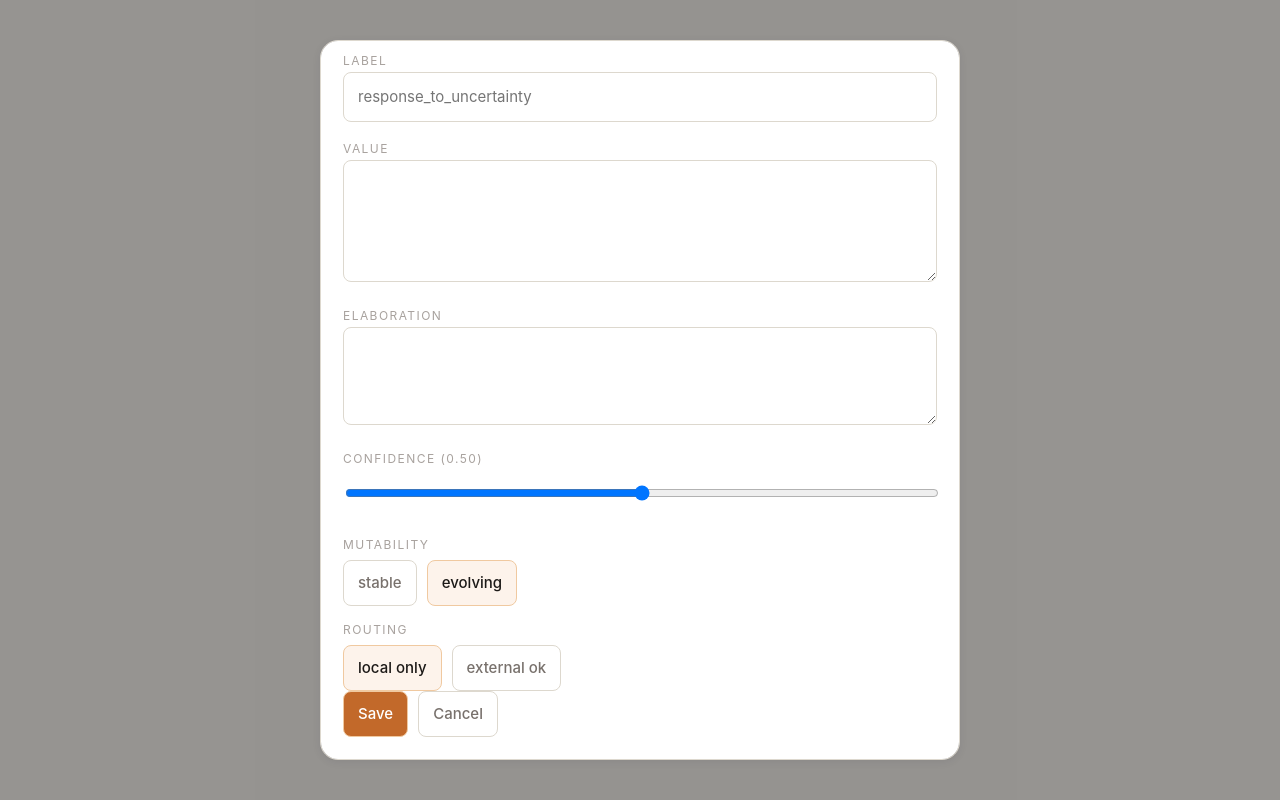
Scenario: AttributeEditor › validates required fields while creating
(page scrolled)
Click the button "Save" at point(376, 714), box [343,691,408,737]
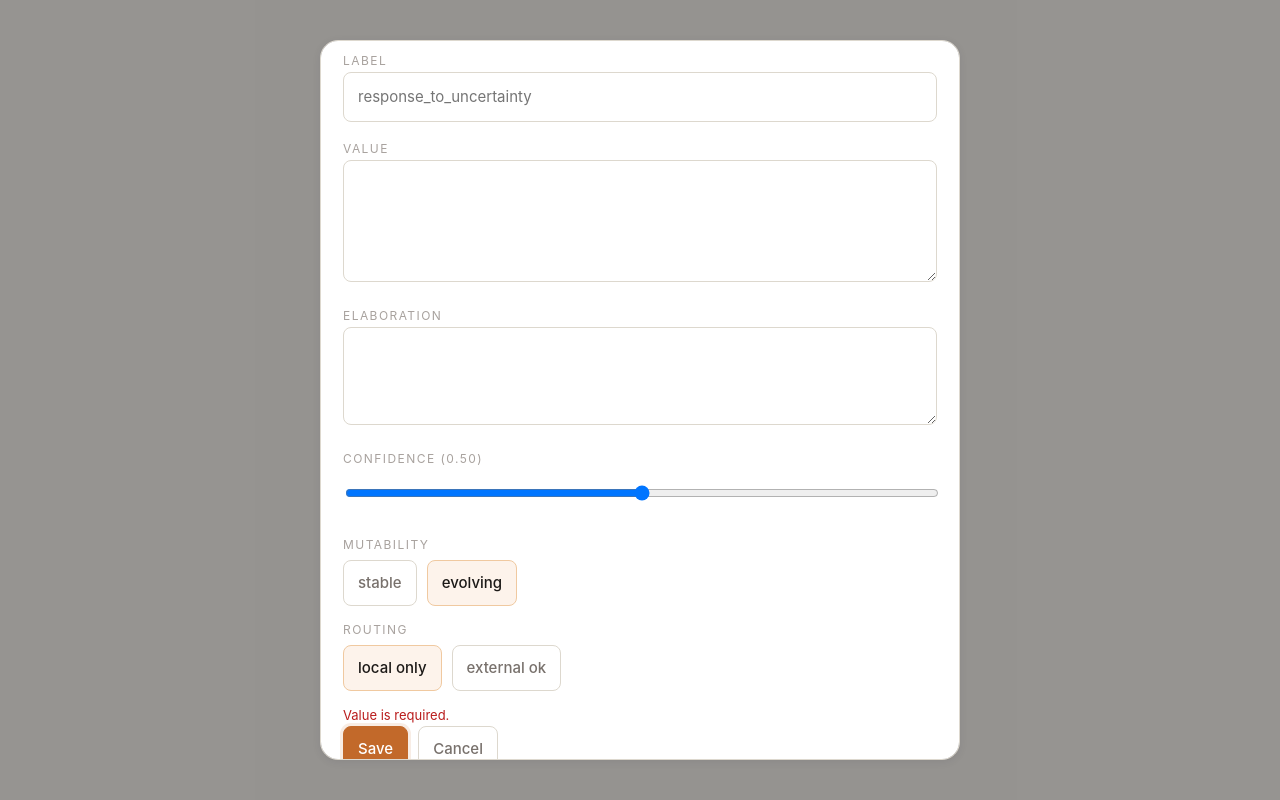
Check: the message reads "Value is required.", box [343,707,449,723]
Type "Something true" into the text box labelled "Value" at point(640, 221), box [343,160,937,282]
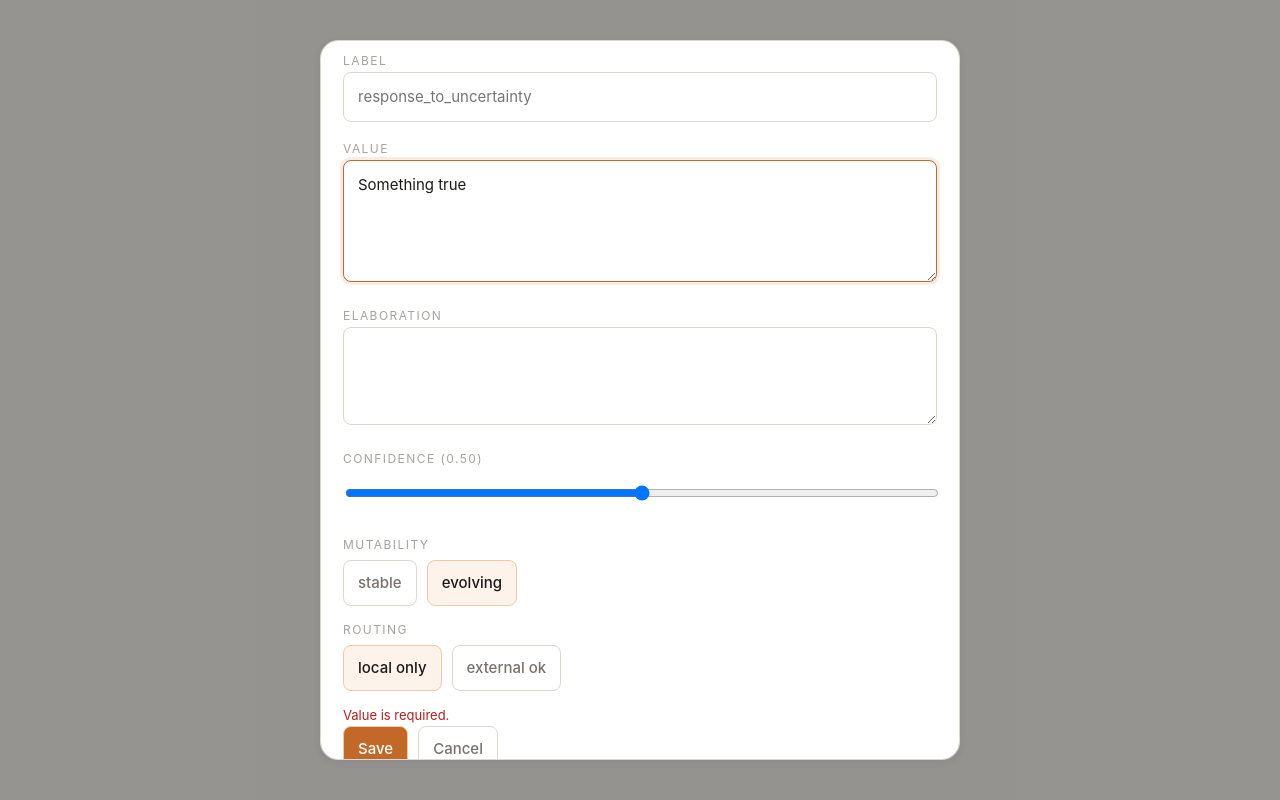
Click the button "Save" at point(376, 749), box [343,726,408,772]
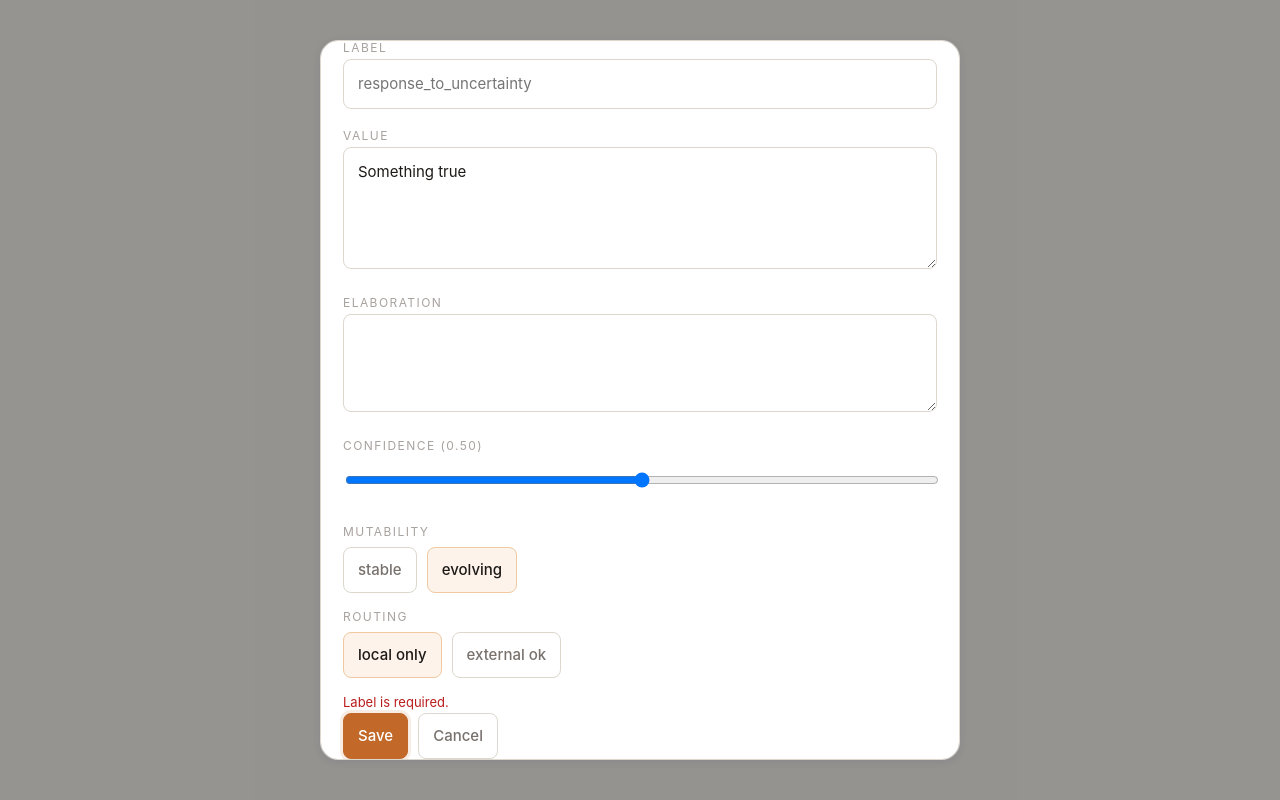
Check: the message reads "Label is required.", box [343,694,449,710]
